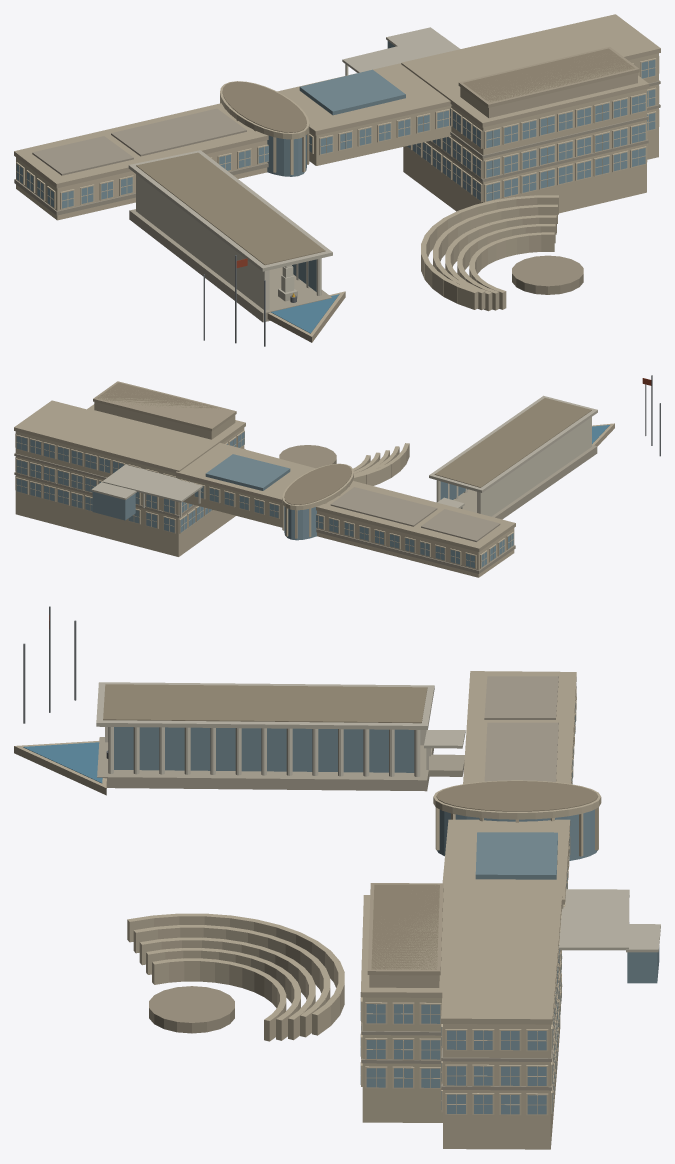
Rendered from virginia-war-memorial.glb.
3 renders of one model, top to bottom at view 1: azimuth 30°, elevation 25°; view 2: azimuth 150°, elevation 25°; view 3: azimuth 270°, elevation 25°, orthographic. The views are drawn at different scales.
Parts seen in each view (by area): view 1: shrine-plinth; view 2: shrine-plinth; view 3: shrine-plinth.
Boxes of the visible parts, x1,y1,x2,y2 form: shrine-plinth: [14, 14, 660, 346]; shrine-plinth: [14, 375, 660, 577]; shrine-plinth: [14, 606, 660, 1149].
Size of the model in its own units: 116 by 29.96 by 88.72.
